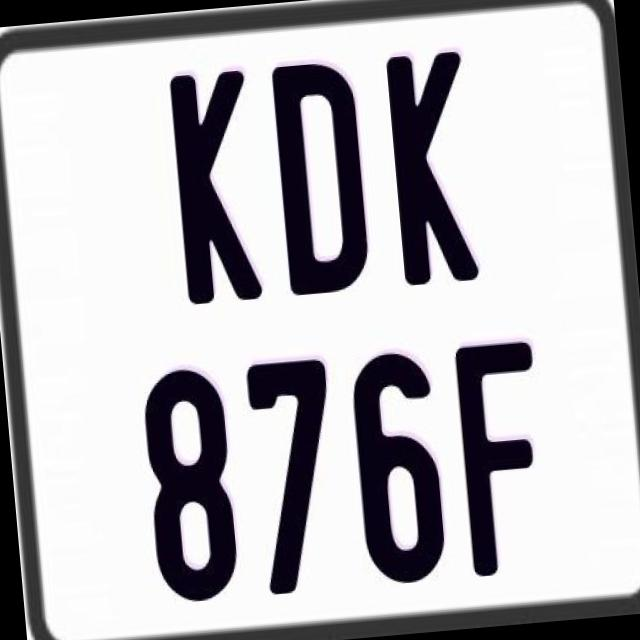6: (346, 346, 452, 592)
7: (243, 355, 344, 601)
8: (135, 362, 242, 611)
D: (271, 59, 376, 304)
F: (450, 336, 550, 582)
K: (165, 69, 268, 314), (385, 47, 485, 292)
